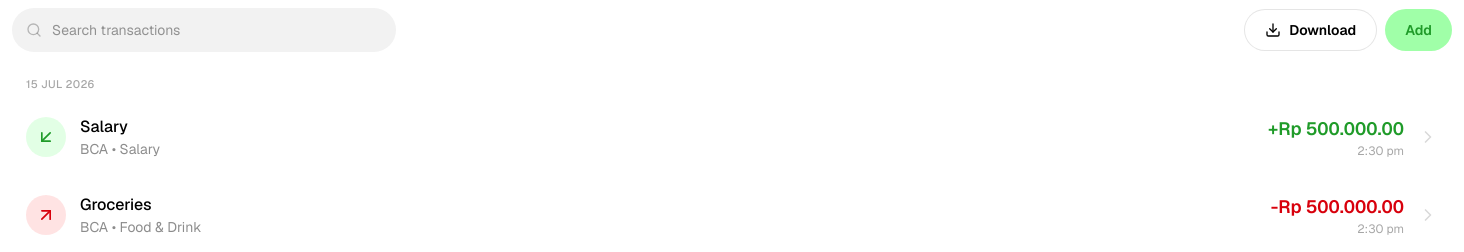
Scenario: TransactionsView — search filtering › filters transactions by name
Type "salary" into the field with placeholder "Search transactions".
click(204, 30); type("salary")  # box [12,8,396,52]
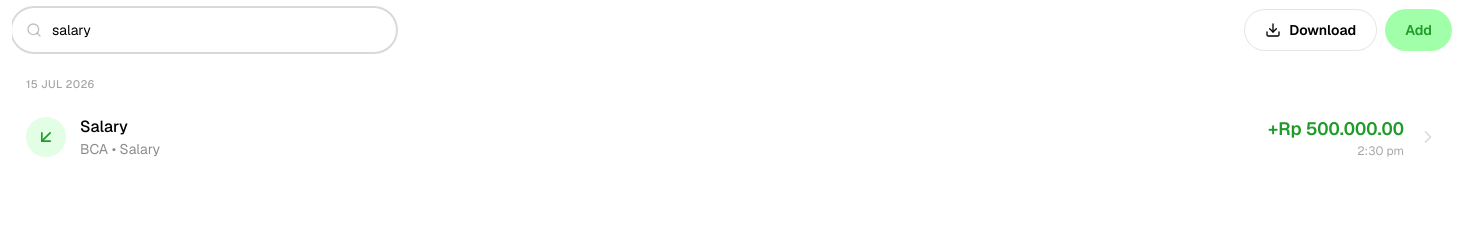
expect the text "Salary" is shown: met, box [80,116,128,136]
expect the button "Groceries" is gone: met
